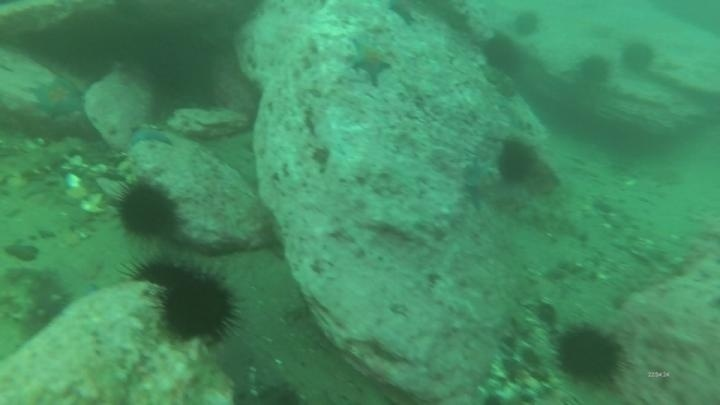echinus: (156, 272, 240, 345), (553, 323, 628, 387), (112, 178, 182, 242), (123, 254, 210, 290), (495, 137, 539, 186), (480, 34, 524, 76), (619, 39, 657, 75), (576, 53, 613, 87), (511, 9, 543, 40)
holothurian: (1, 135, 87, 187), (500, 193, 584, 241)
starfish: (30, 75, 84, 119), (347, 35, 394, 85), (460, 158, 499, 212), (128, 124, 175, 149), (386, 1, 421, 27)
